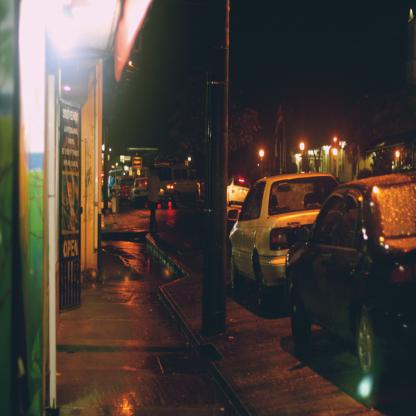Car: (285, 173, 408, 384), (226, 172, 350, 310), (154, 156, 202, 206), (225, 176, 251, 204), (130, 176, 148, 202), (119, 174, 136, 200)
